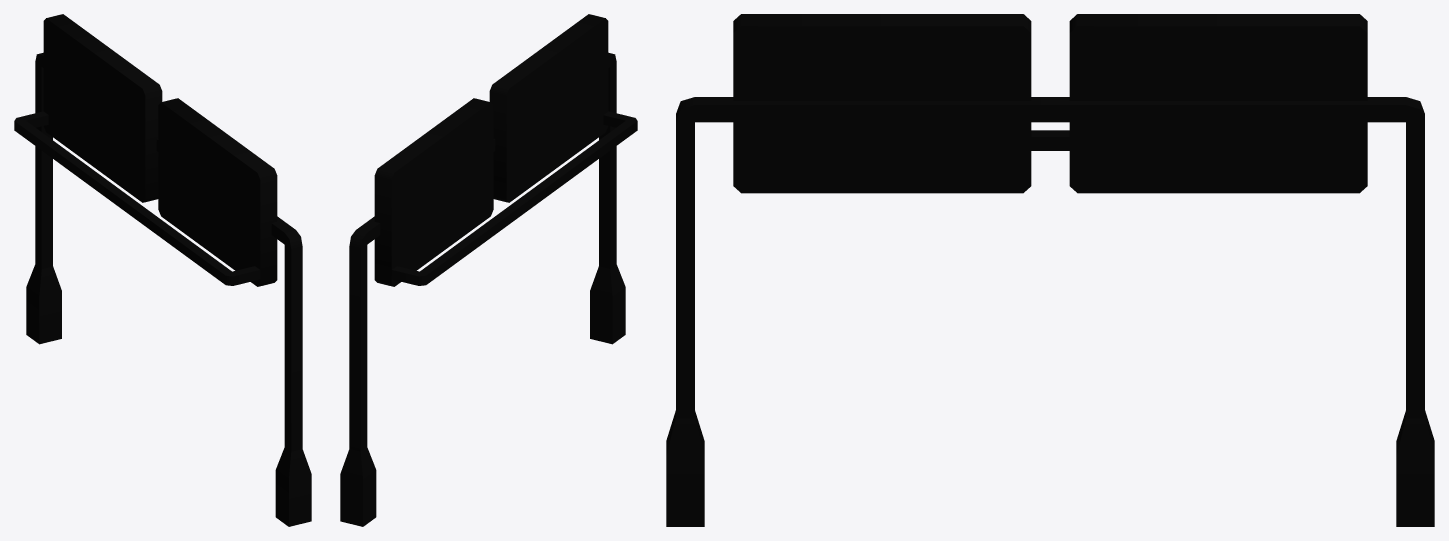
The model's file is sign-highway.glb.
3 renders of one model, left to right at view 1: azimuth 30°, elevation 25°; view 2: azimuth 150°, elevation 25°; view 3: azimuth 270°, elevation 25°, orthographic. The views are drawn at different scales.
Visible parts, largest first — view 1: sign-highway; view 2: sign-highway; view 3: sign-highway.
Part boxes in pixels (<box>): sign-highway: <box>14,14,311,526</box>; sign-highway: <box>340,14,637,526</box>; sign-highway: <box>666,14,1434,526</box>.
Size of the model in its own units: 0.1323 by 0.7074 by 1.
Materials: 1 (1 with a texture image).
